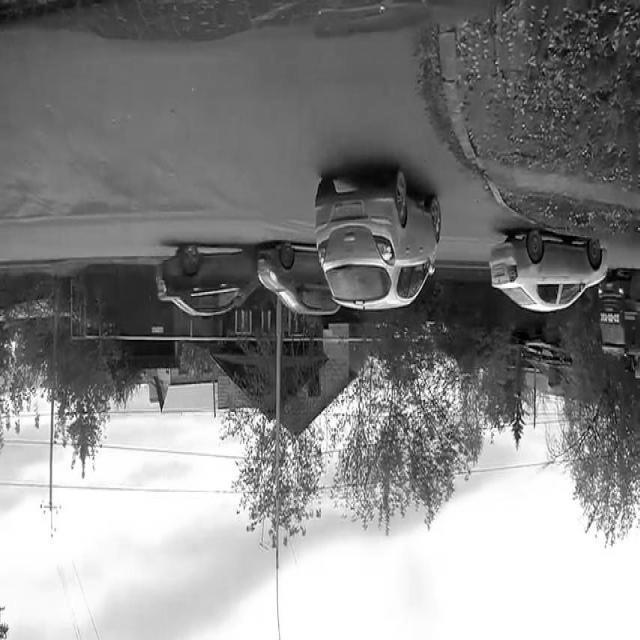moderate: (154, 235, 352, 332)
